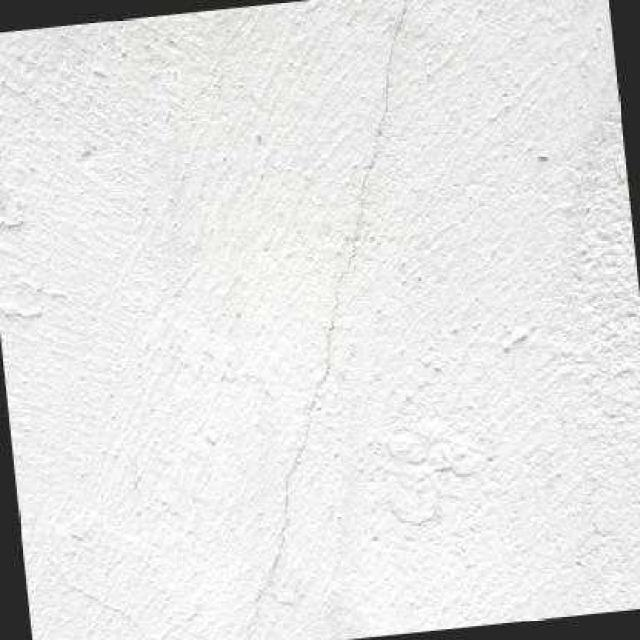D00: (242, 0, 409, 640)
